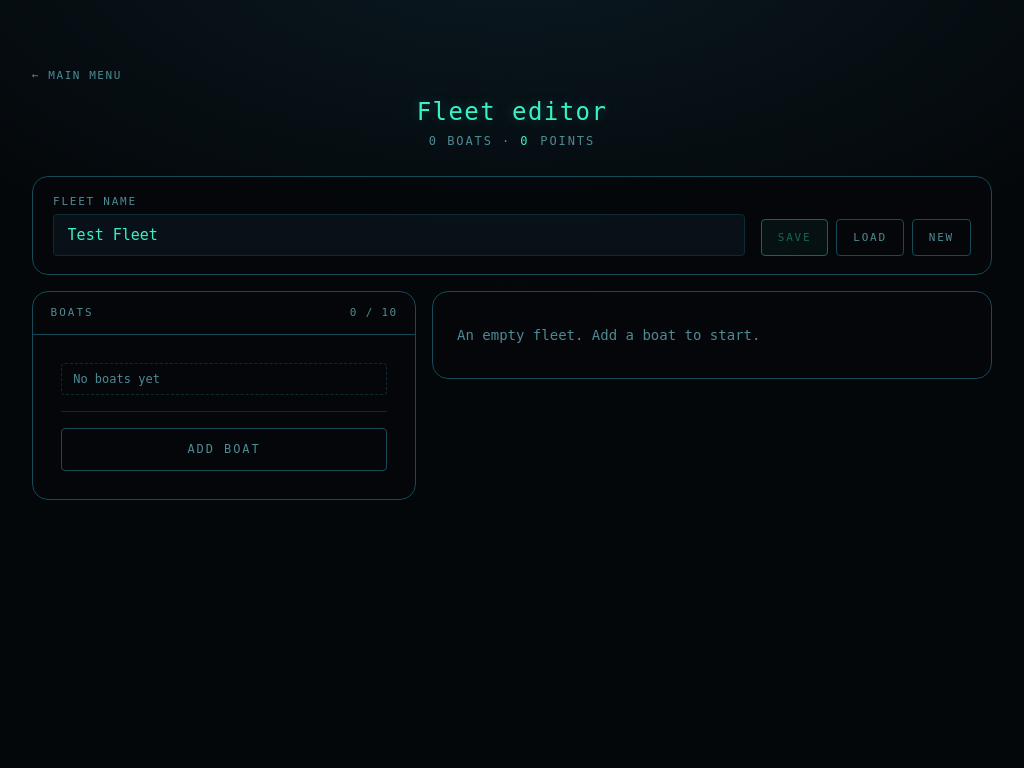
Test: in the fleet editor › closes the hull picker without also leaving the editor
This screenshot has width=1024, height=768.
Click the button "ADD BOAT" at (224, 449), box x1=61 y1=428 x2=387 y2=471
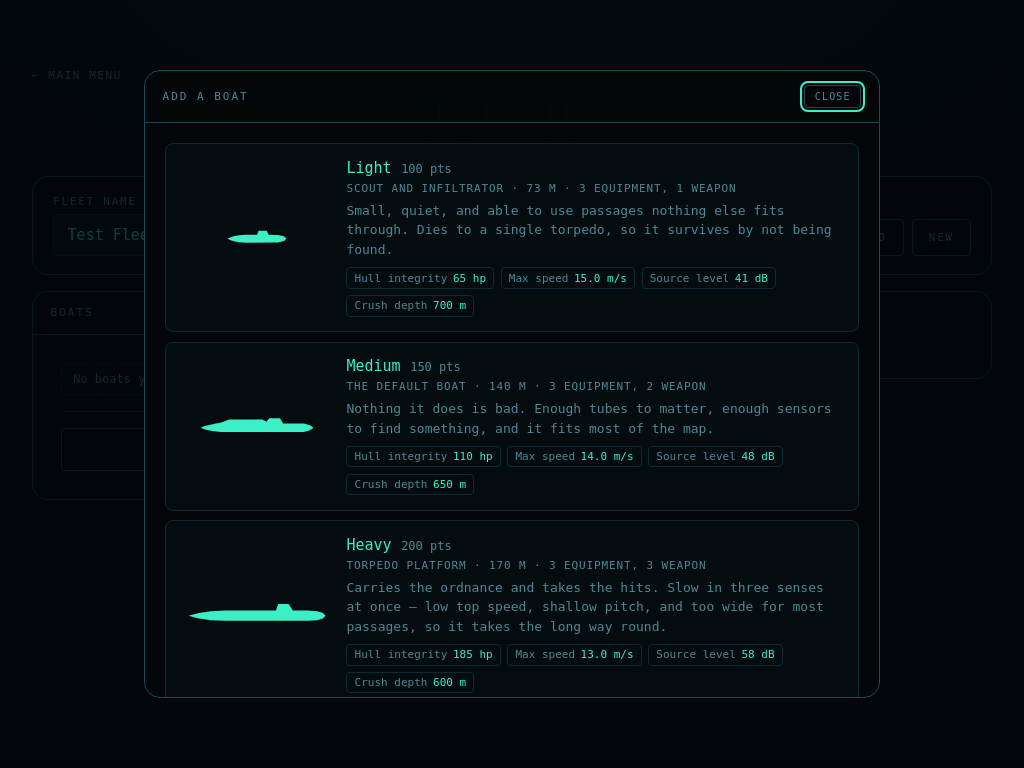
Now the dialog is shown, box x1=144 y1=70 x2=880 y2=698
Press Escape
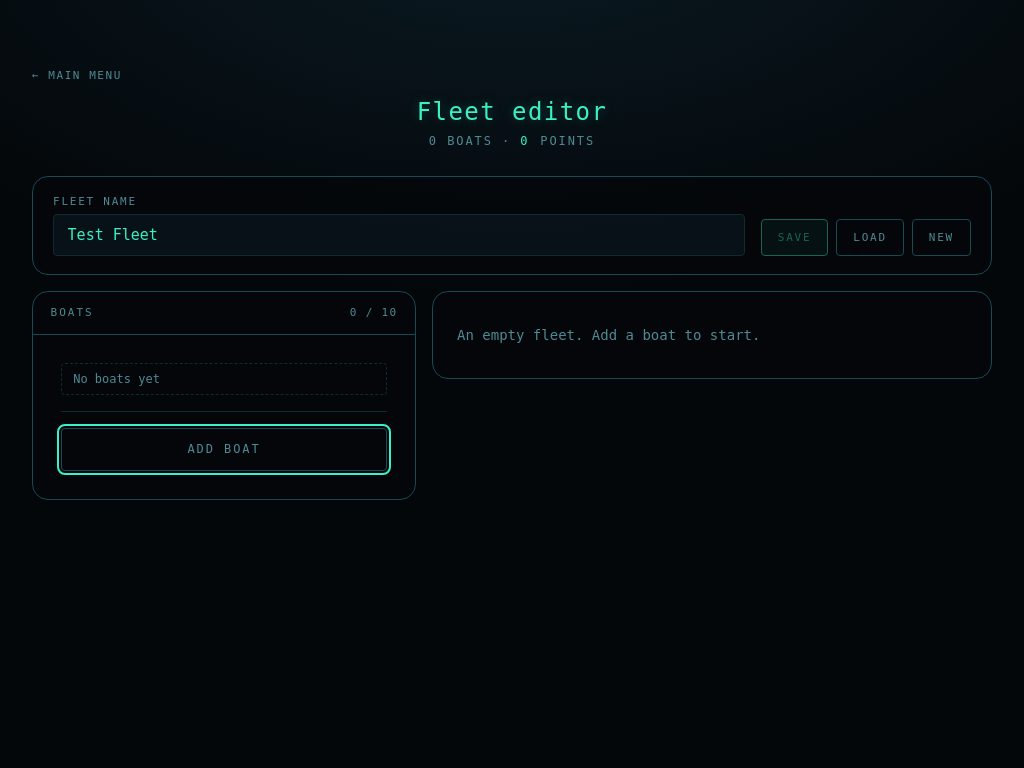
Now the dialog is gone
